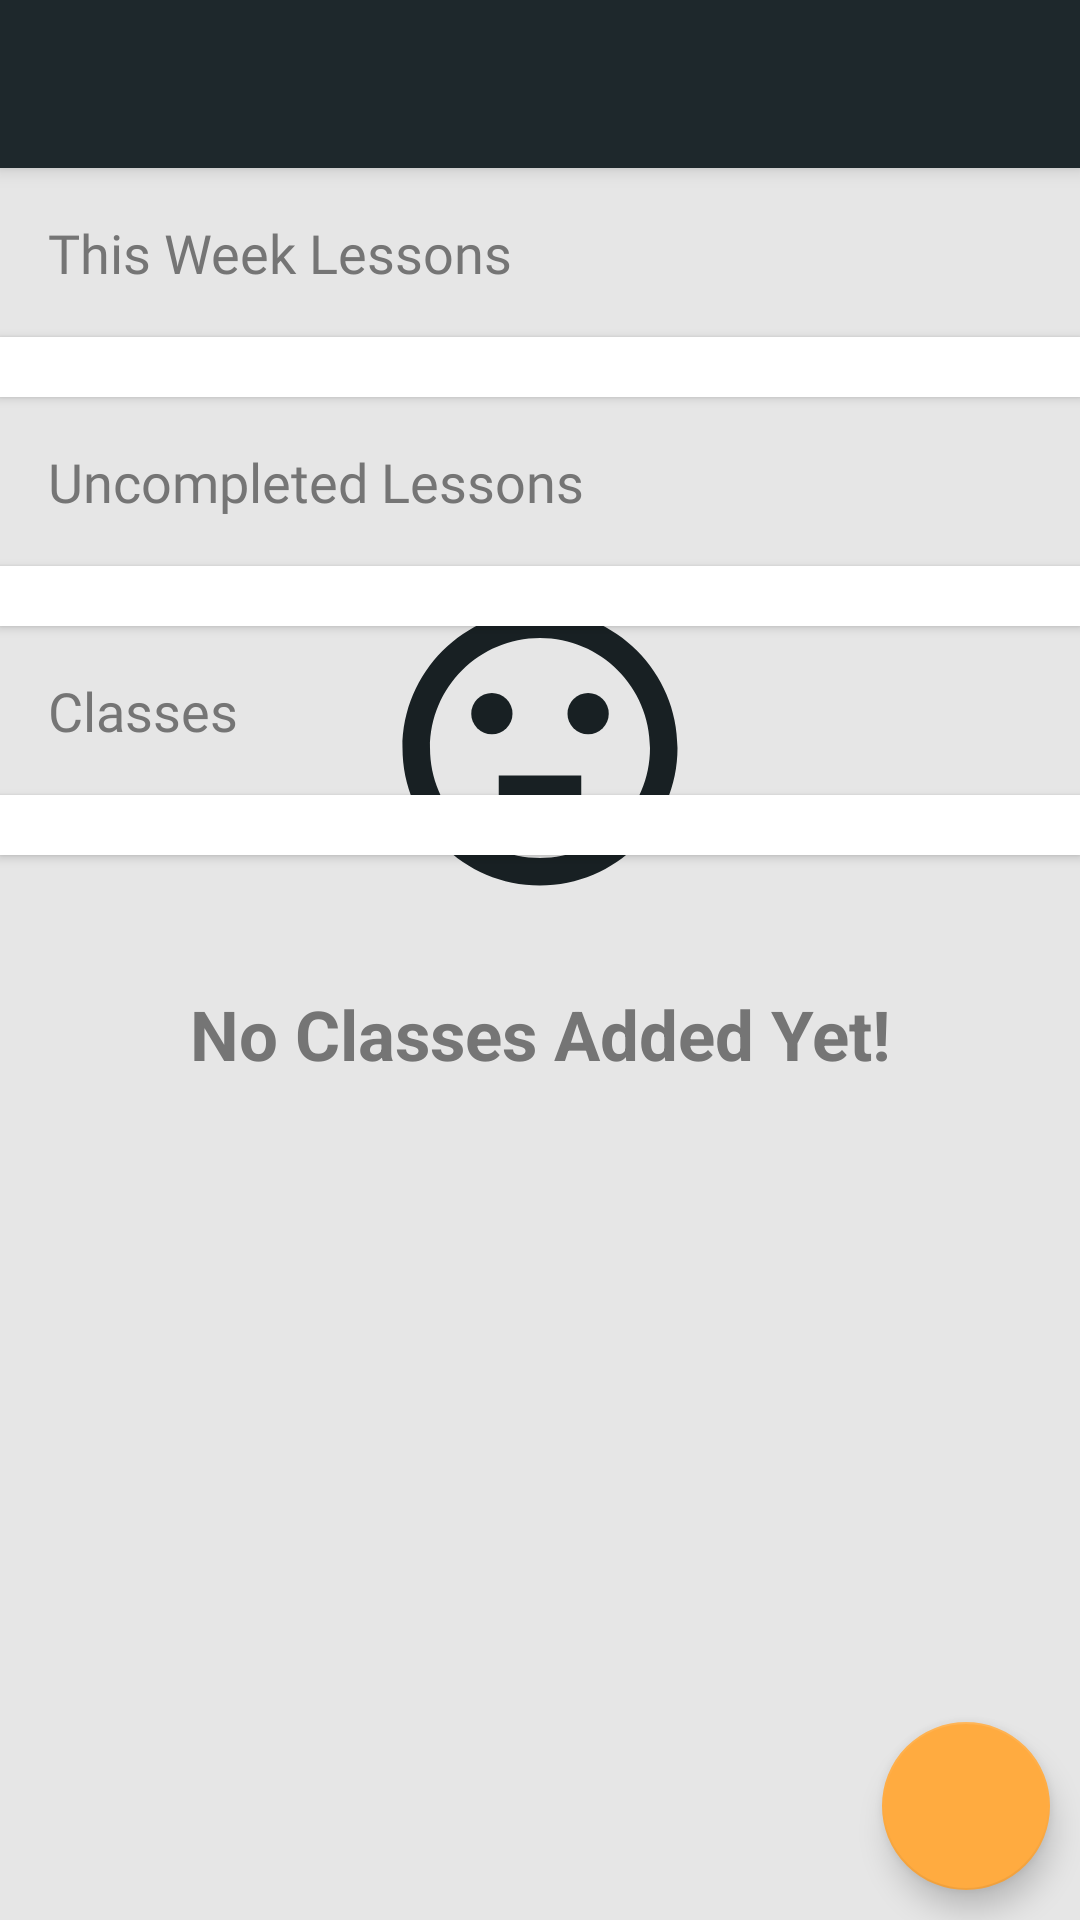

Icons on this 1080×1920 Android screen, each with the point to tap as [x,y]:
sentiment neutral: [540,748]
